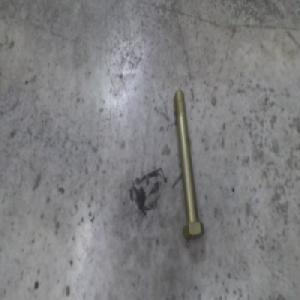Bolt: (169, 89, 200, 239)
